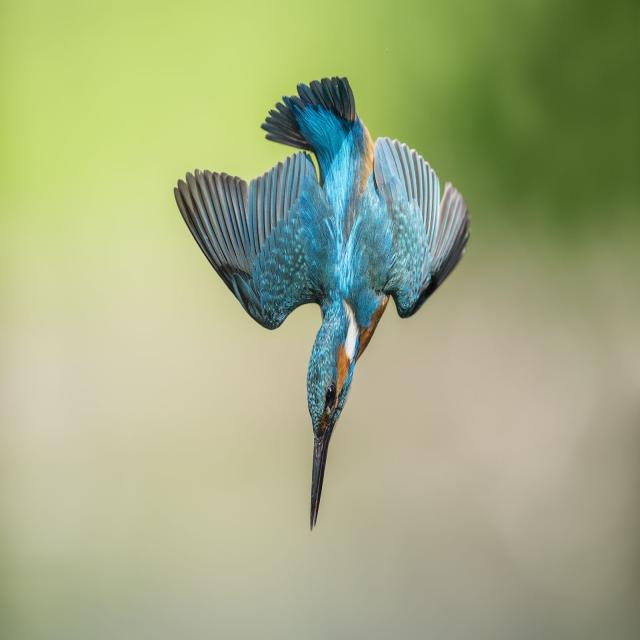kingfisher: (147, 59, 512, 554)
